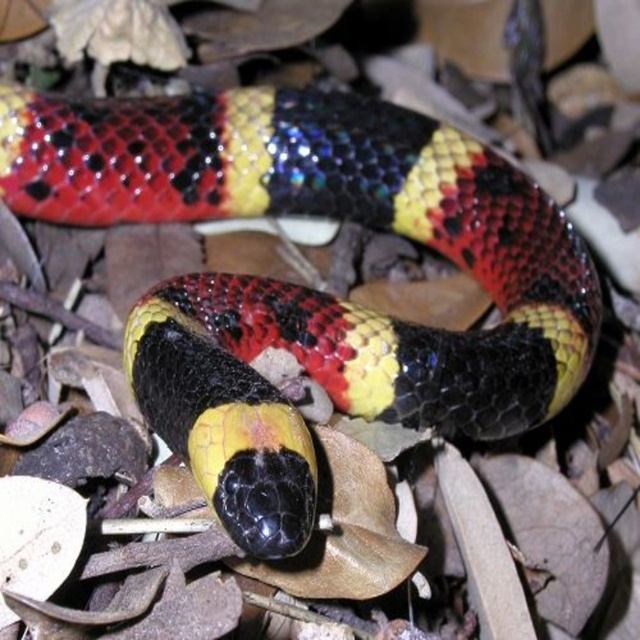Snake: (0, 79, 604, 562)
